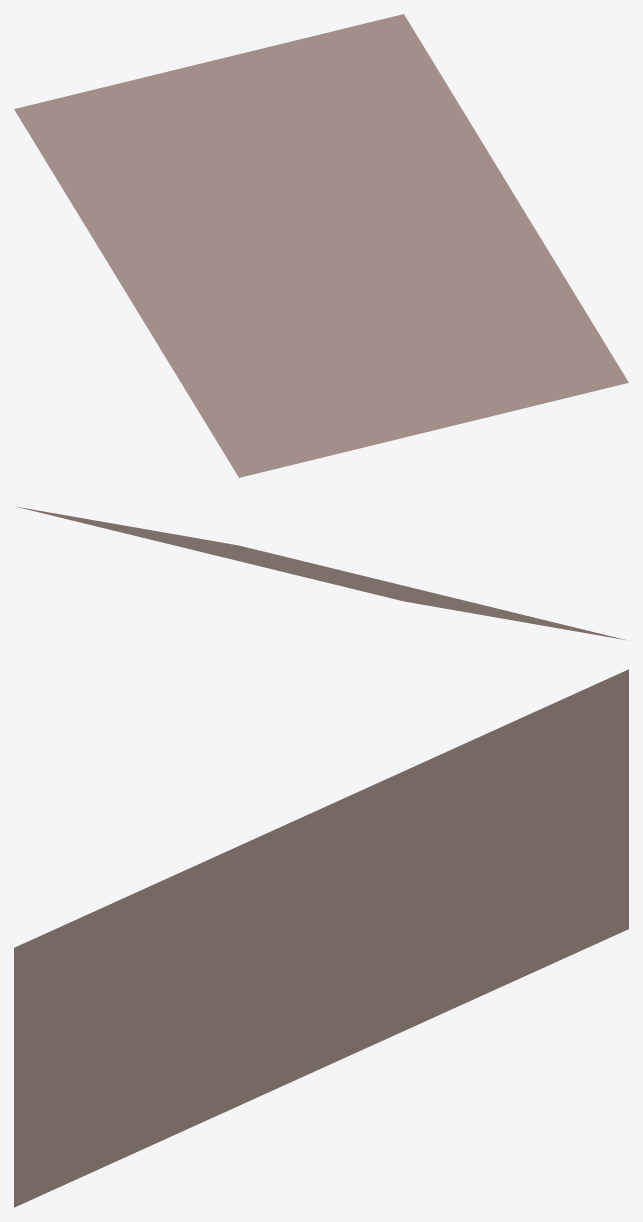
File: RoofSlope.glb
The picture shows the model from 3 angles, top to bottom: view 1: azimuth 30°, elevation 25°; view 2: azimuth 150°, elevation 25°; view 3: azimuth 270°, elevation 25°; orthographic projection. The views are drawn at different scales.
Visible parts, largest first — view 1: PBK_Brick_RoofSlope_Roof_Surface.001; view 2: PBK_Brick_RoofSlope_Roof_Surface.001; view 3: PBK_Brick_RoofSlope_Roof_Surface.001.
Part boxes in pixels (box(x1,y1,x2,y2)): PBK_Brick_RoofSlope_Roof_Surface.001: box(14, 14, 628, 477); PBK_Brick_RoofSlope_Roof_Surface.001: box(16, 506, 626, 640); PBK_Brick_RoofSlope_Roof_Surface.001: box(14, 669, 628, 1207).
Size of the model in its own units: 2 by 1 by 2.
